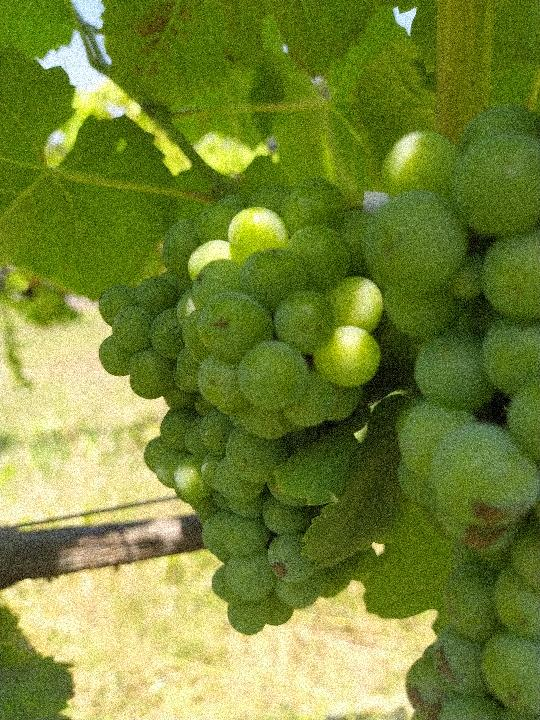grape: (95, 177, 374, 638)
